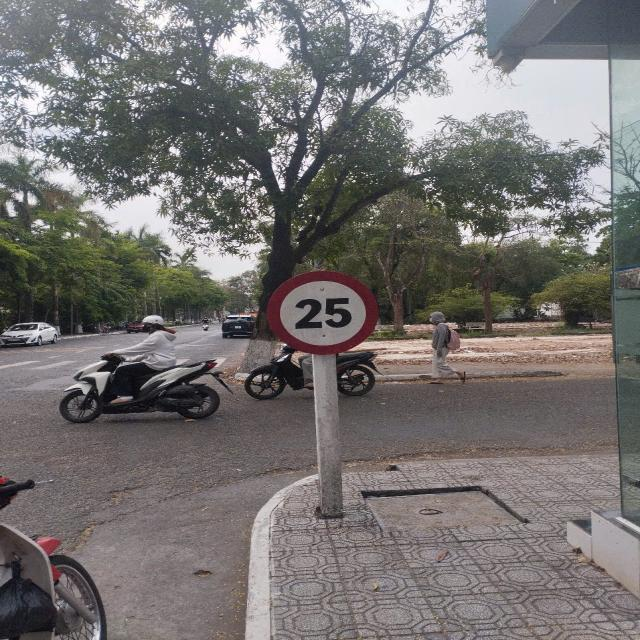Tre_Em: (266, 270, 379, 355)
